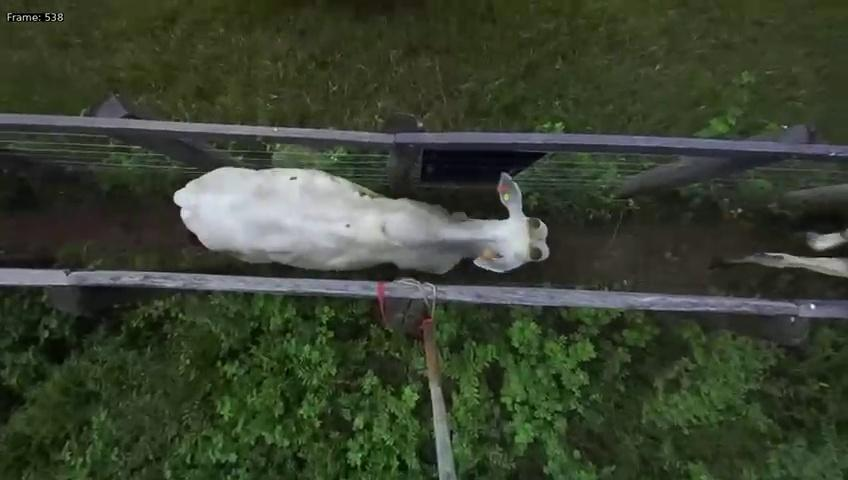cattle: (168, 153, 550, 277)
